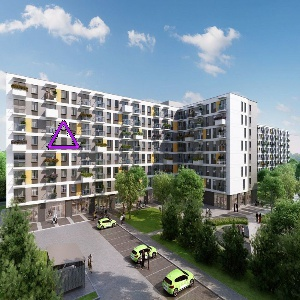triangle: (41, 118, 83, 151)
